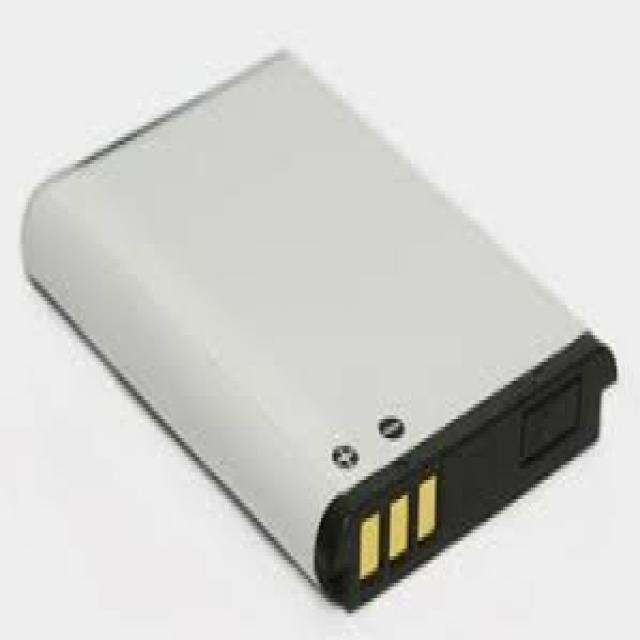non-organic waste: (18, 46, 615, 616)
